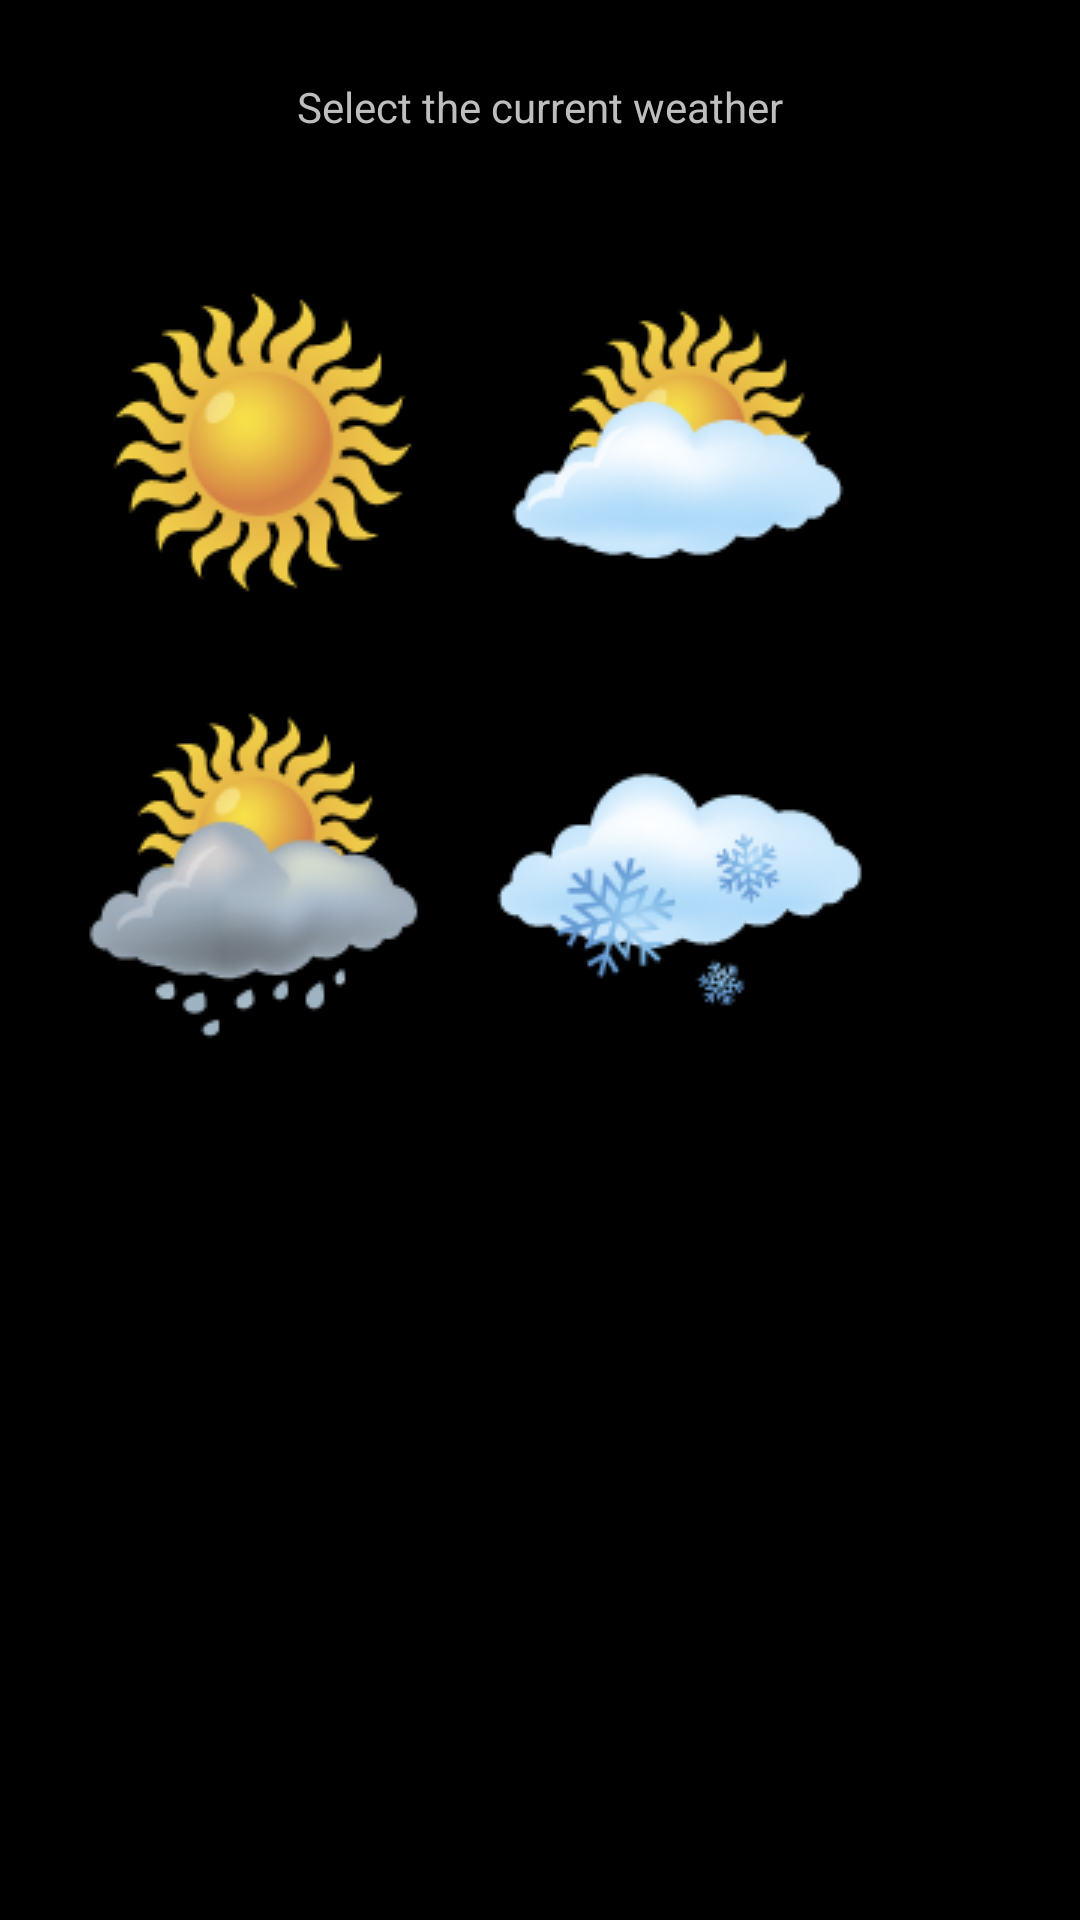

Where icons sit on this 1080*1920 app screen, as (x1,y1,x2,y2):
cloud: (512,311,843,559)
rain: (89,713,418,1037)
sun: (114,293,412,592)
